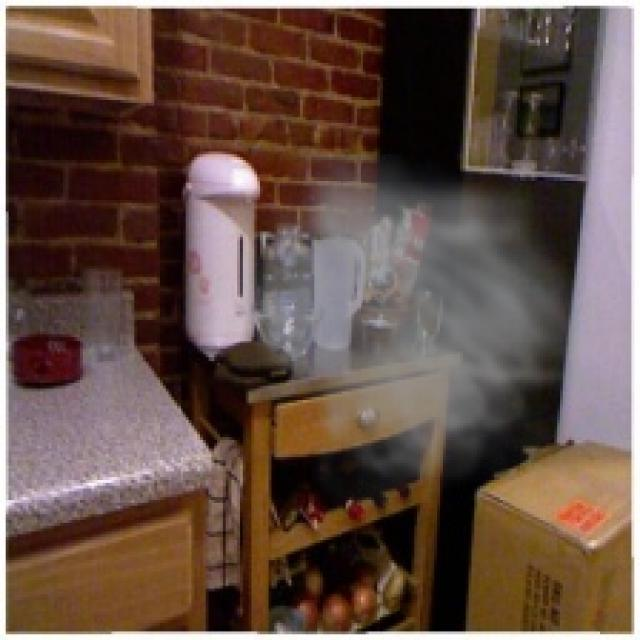Smoke: (220, 155, 603, 520)
